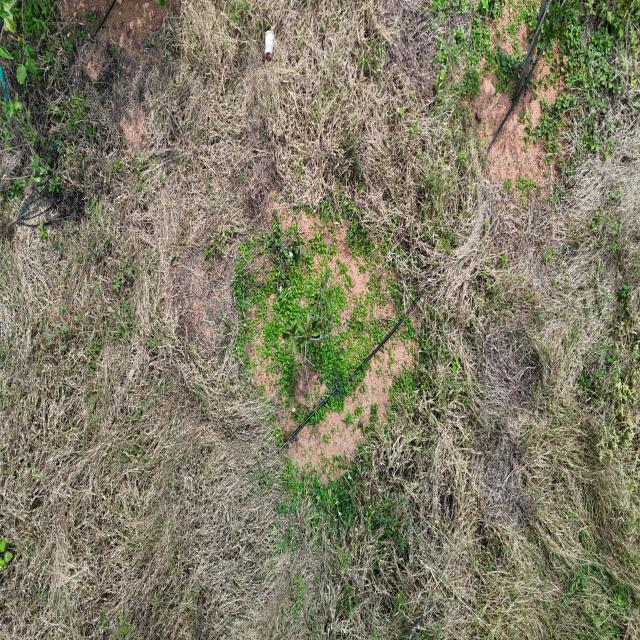notMangoTree: (0, 0, 75, 224), (289, 257, 334, 381)
